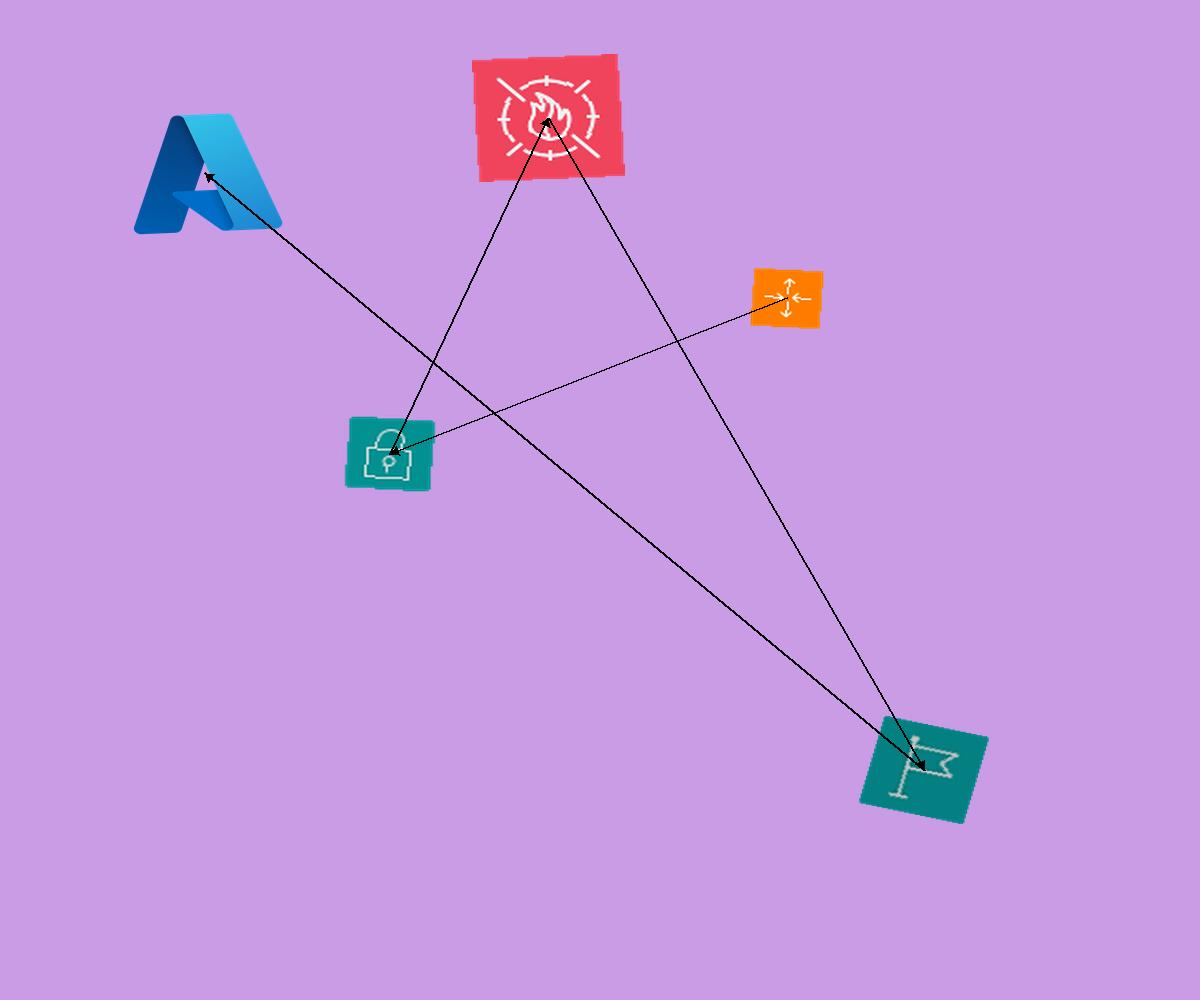AWS-Private-subnet: (343, 415, 437, 493)
AWS-Region: (858, 715, 990, 825)
AWS-Scaling-group: (749, 267, 825, 330)
AWS-WAF: (472, 54, 625, 182)
Azure_services: (120, 102, 290, 244)
